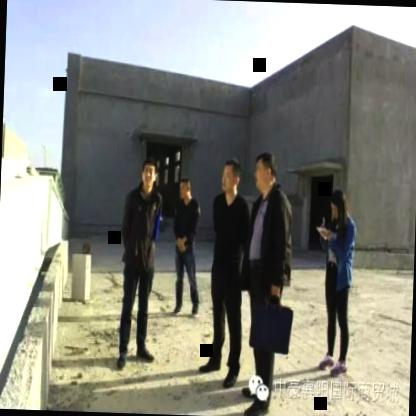head: (251, 151, 277, 193), (219, 156, 242, 201), (140, 155, 160, 200), (329, 187, 350, 224), (177, 174, 193, 202)
